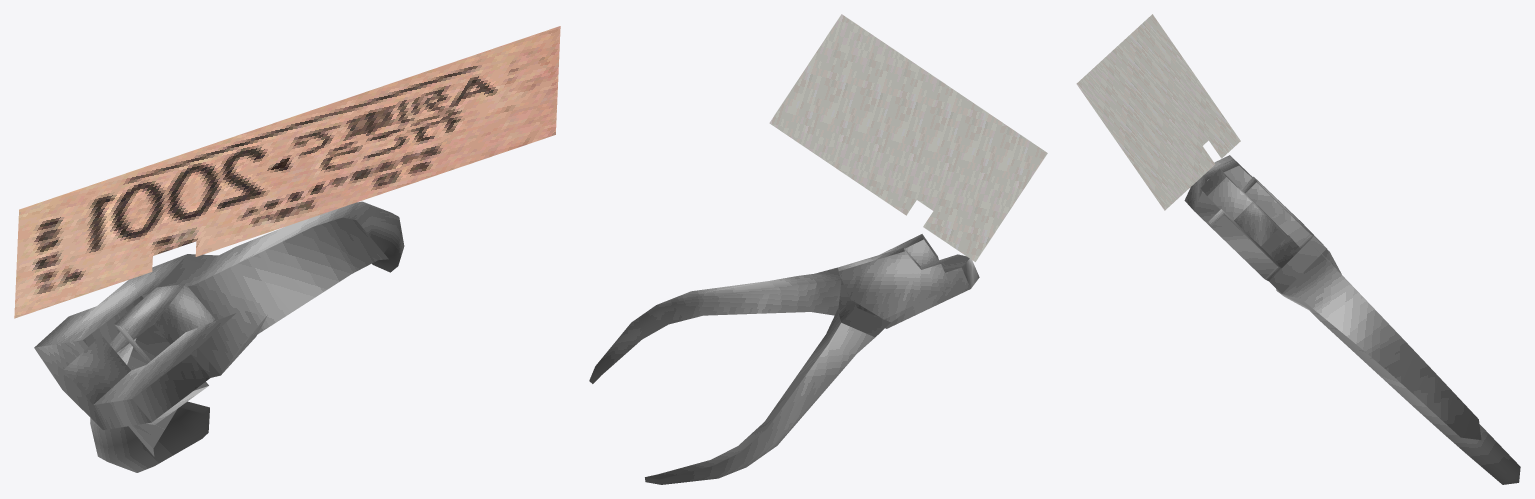
Rendered from ps2_save-icons_aresshadeikkou2001.glb.
The picture shows the model from 3 angles, left to right: view 1: azimuth 30°, elevation 25°; view 2: azimuth 150°, elevation 25°; view 3: azimuth 270°, elevation 25°; orthographic projection. The views are drawn at different scales.
Visible parts, largest first — view 1: a2001icon.ico; view 2: a2001icon.ico; view 3: a2001icon.ico.
Part boxes in pixels (x1,y1,x2,y2): a2001icon.ico: [14, 26, 560, 472]; a2001icon.ico: [589, 14, 1047, 484]; a2001icon.ico: [1076, 14, 1520, 484].
Bounding box in the file's own units: 4.65 × 4.71 × 4.73.
Materials: 1 (1 with a texture image).
